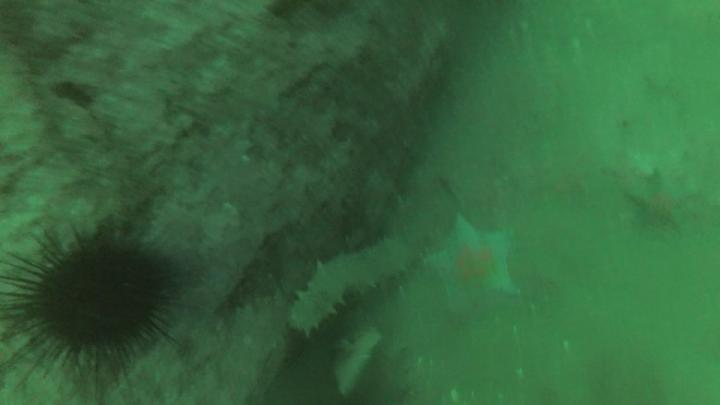echinus: (1, 224, 200, 397)
holothurian: (280, 234, 422, 338)
starfish: (425, 211, 525, 317), (626, 166, 702, 239)
